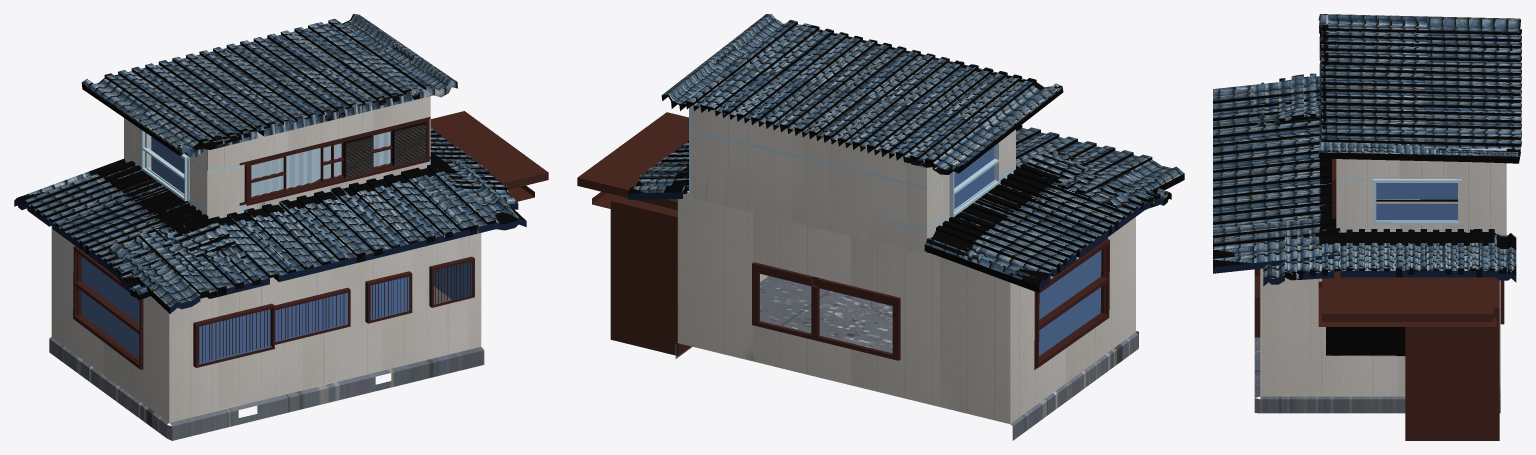
File: House1.glb
3 views of the same model, side by side, from view 1: azimuth 30°, elevation 25°; view 2: azimuth 150°, elevation 25°; view 3: azimuth 270°, elevation 25° (orthographic). The views are drawn at different scales.
Visible parts, largest first — view 1: Cube.008_2; view 2: Cube.008_2; view 3: Cube.008_2.
Boxes of the visible parts, bbox=[...] form: Cube.008_2: bbox=[14, 14, 548, 440]; Cube.008_2: bbox=[577, 14, 1184, 440]; Cube.008_2: bbox=[1213, 14, 1521, 440].
Size of the model in its own units: 9.91 by 5.57 by 5.88.
11 materials, 5 textured.
